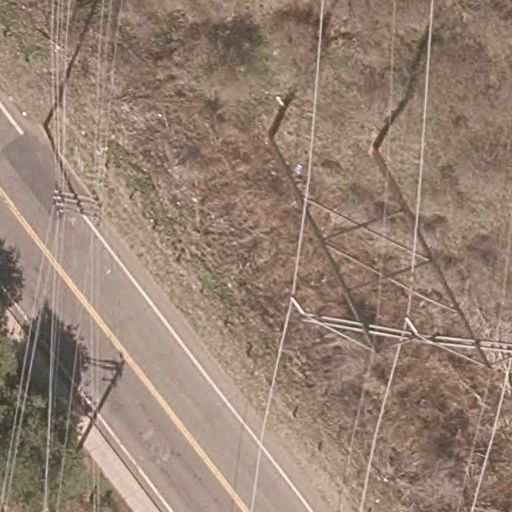DT: (50, 180, 105, 227)
TT: (286, 192, 512, 398)
